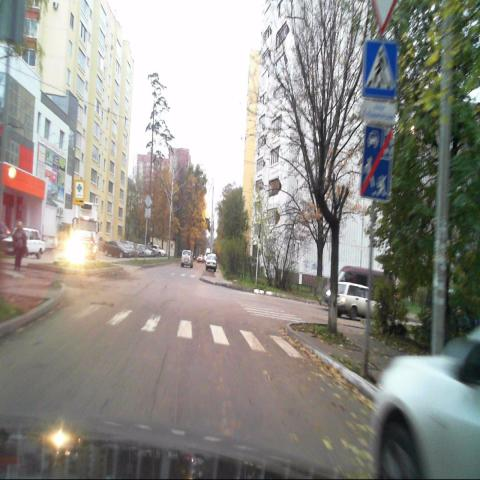5_22: (362, 127, 392, 201)
